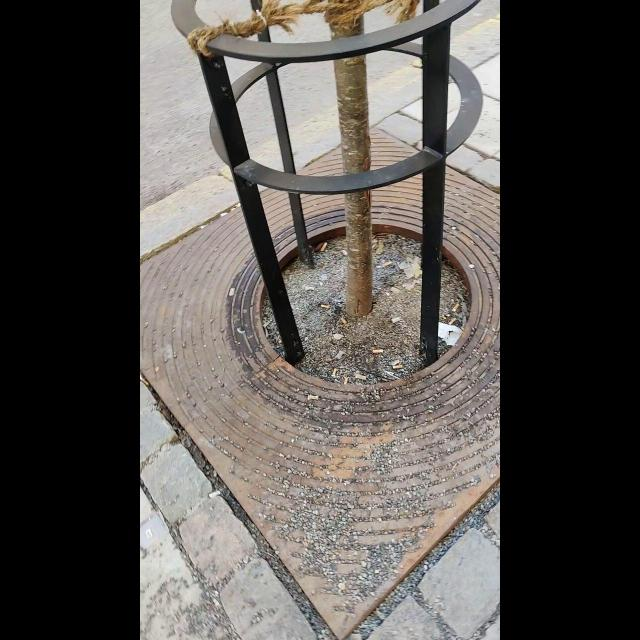cigarette: (140, 376, 150, 387), (355, 374, 367, 381), (228, 287, 236, 297), (330, 368, 337, 378), (382, 261, 392, 268), (452, 303, 459, 313), (392, 317, 402, 324), (322, 241, 328, 252), (392, 364, 402, 370), (304, 286, 316, 291), (308, 395, 319, 400), (372, 350, 384, 354), (321, 303, 330, 308), (450, 318, 456, 325), (343, 377, 348, 384)
